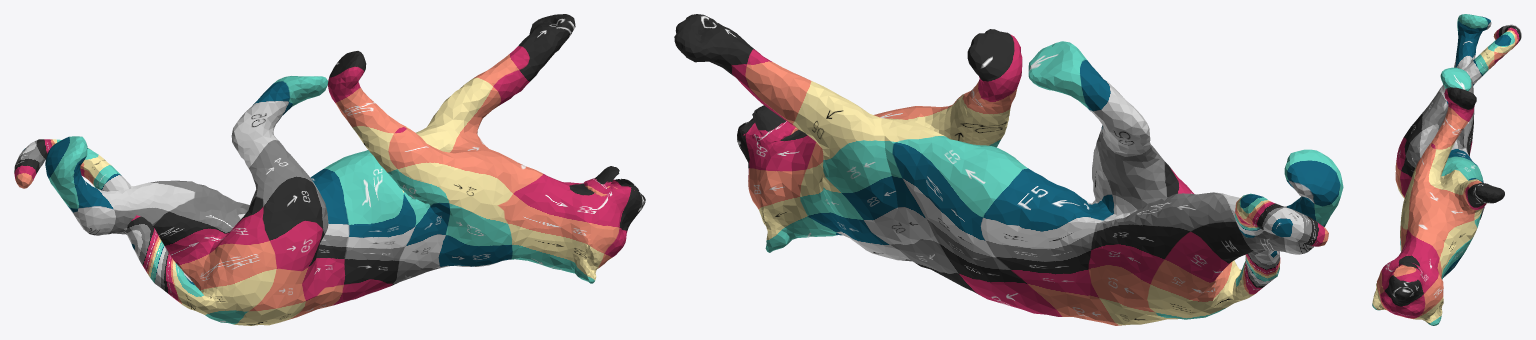
File: hippo_01-cougar_03.obj
3 renders of one model, left to right at view 1: azimuth 30°, elevation 25°; view 2: azimuth 150°, elevation 25°; view 3: azimuth 270°, elevation 25°, orthographic. The views are drawn at different scales.
Parts seen in each view (by area): view 1: hippo_01-cougar_03_export; view 2: hippo_01-cougar_03_export; view 3: hippo_01-cougar_03_export.
Part boxes in pixels (x1=…): hippo_01-cougar_03_export: x1=14, y1=14, x2=645, y2=325; hippo_01-cougar_03_export: x1=674, y1=14, x2=1343, y2=325; hippo_01-cougar_03_export: x1=1372, y1=14, x2=1521, y2=325.
Bounding box in the file's own units: 1.19 × 0.4973 × 0.3967.
